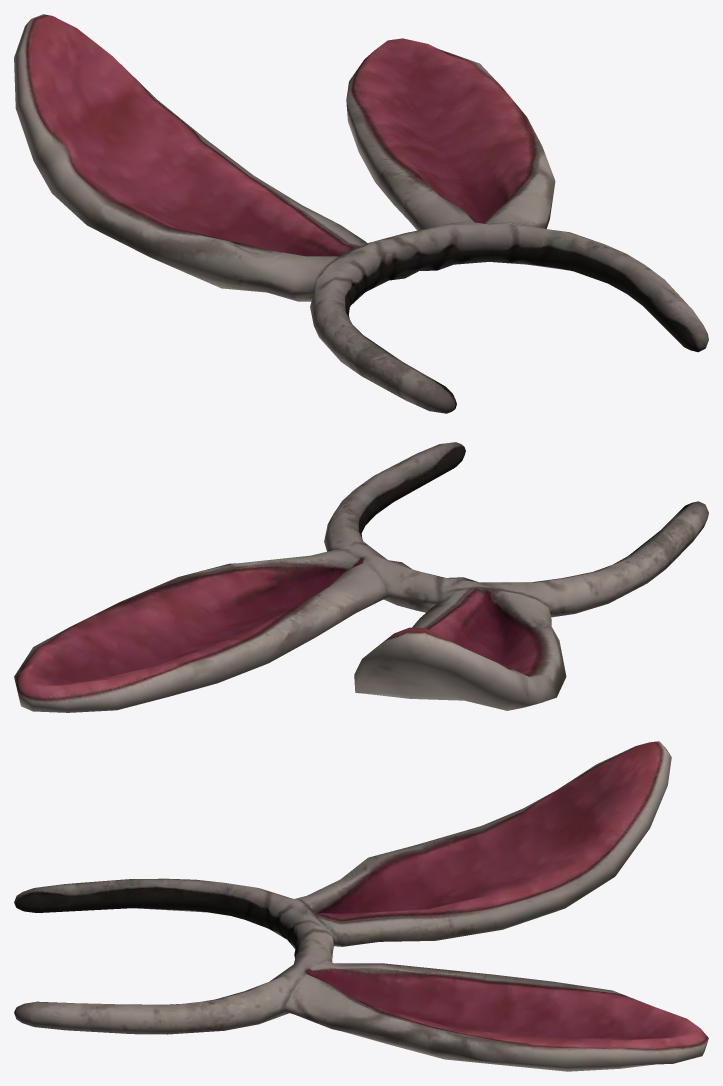
The model's file is hat.bunnyears.world.glb.
The picture shows the model from 3 angles, top to bottom: view 1: azimuth 30°, elevation 25°; view 2: azimuth 150°, elevation 25°; view 3: azimuth 270°, elevation 25°; orthographic projection. The views are drawn at different scales.
Visible parts, largest first — view 1: BunnyEarsWM_LOD0; view 2: BunnyEarsWM_LOD0; view 3: BunnyEarsWM_LOD0.
Part boxes in pixels (x1,y1,x2,y2): BunnyEarsWM_LOD0: (14, 14, 708, 413); BunnyEarsWM_LOD0: (14, 442, 708, 712); BunnyEarsWM_LOD0: (14, 741, 708, 1071).
Bounding box in the file's own units: 0.2842 × 0.1004 × 0.392.
Materials: 1 (1 with a texture image).
